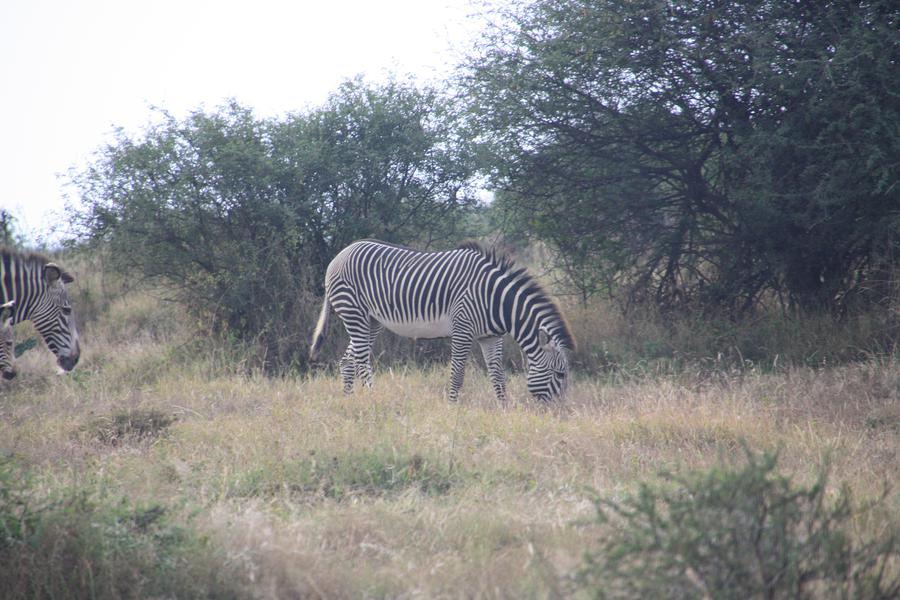zebra_grevys: (320, 224, 490, 338)
